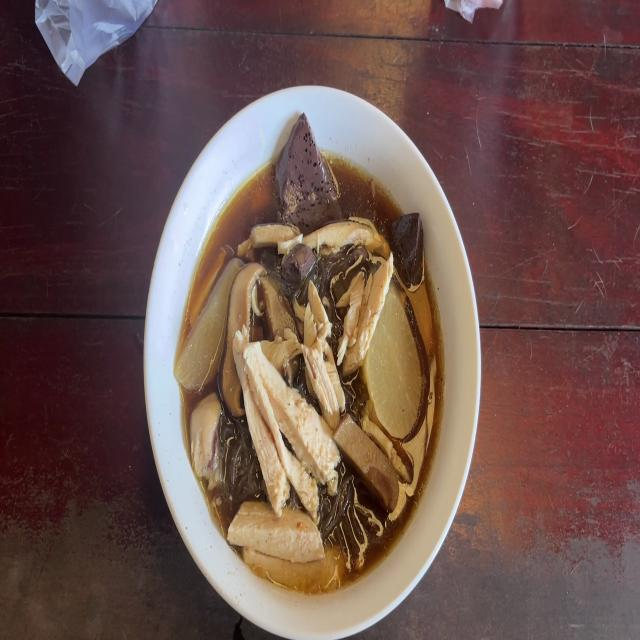boiled_chicken_blood_jelly: (278, 120, 336, 230), (389, 210, 421, 282), (278, 244, 314, 301)
chicken_shredded: (240, 331, 316, 498), (235, 504, 336, 594), (340, 263, 390, 368), (307, 290, 345, 422), (248, 223, 387, 251), (189, 398, 221, 482)
daikon_radish: (173, 263, 230, 395), (377, 316, 422, 419)
noodle: (185, 158, 438, 574)
